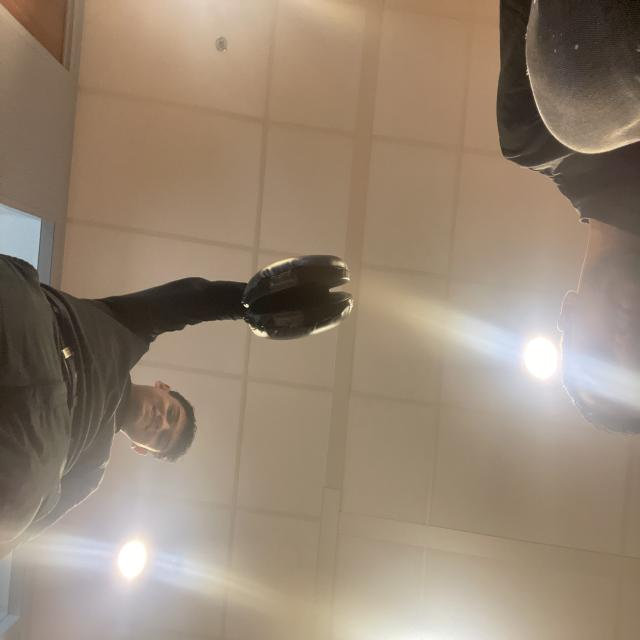paddle: (248, 262, 352, 334)
